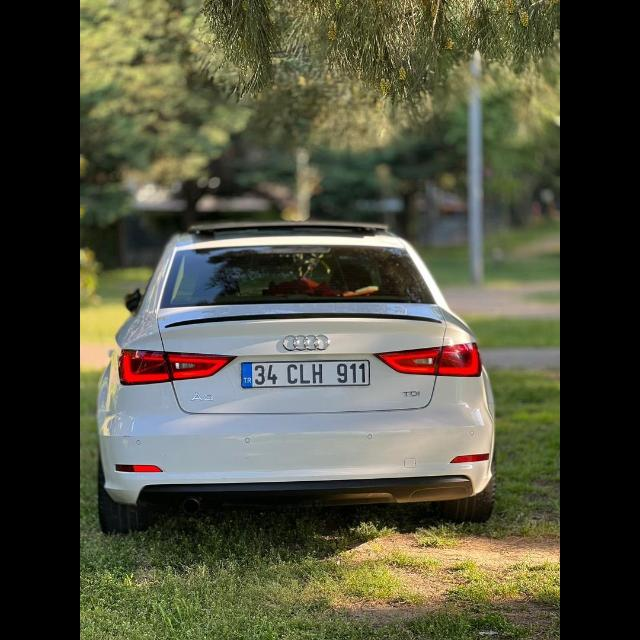Plaka: (244, 359, 372, 385)
